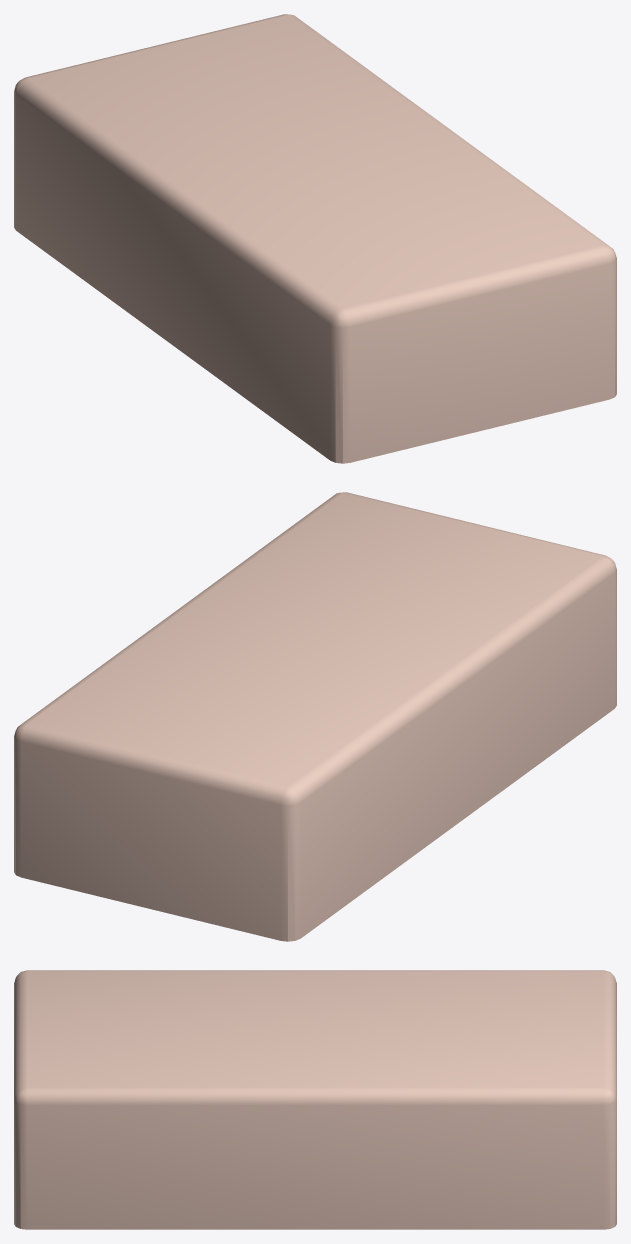
Rendered from Side_rock_big.fbx.
3 renders of one model, top to bottom at view 1: azimuth 30°, elevation 25°; view 2: azimuth 150°, elevation 25°; view 3: azimuth 270°, elevation 25°, orthographic. The views are drawn at different scales.
Visible parts, largest first — view 1: Side_rock_big; view 2: Side_rock_big; view 3: Side_rock_big.
Part boxes in pixels (left/top/right/bottom): Side_rock_big: left=14, top=14, right=616, bottom=463; Side_rock_big: left=14, top=492, right=616, bottom=941; Side_rock_big: left=14, top=970, right=616, bottom=1229.
Bounding box in the file's own units: 100 × 50 × 200.
